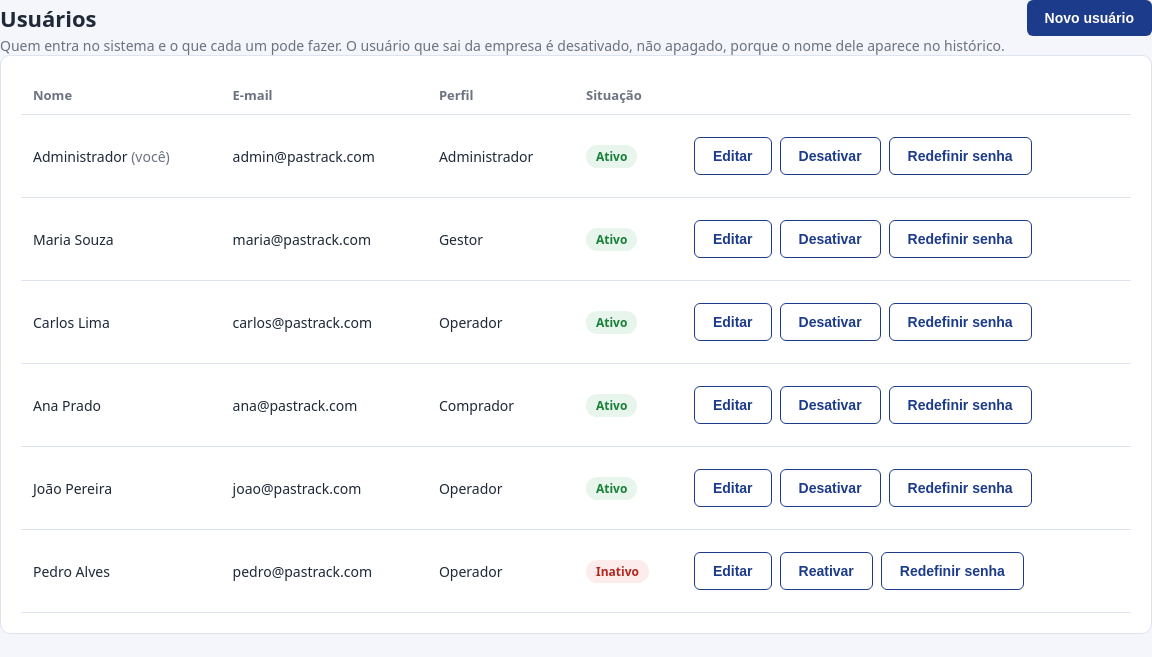
página de usuários › cadastra um usuário e mostra a senha temporária uma vez
Click the button "Novo usuário" at (1089, 18), box [1026,0,1151,36]
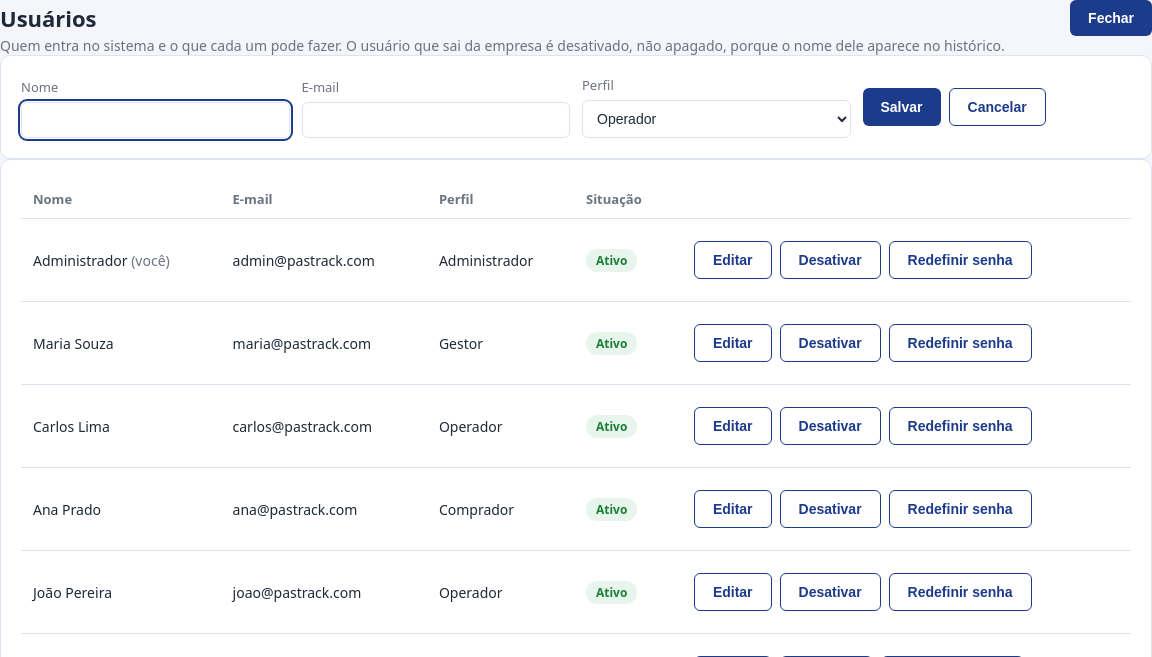
Type "Joana Prado" into the field labelled "Nome" at (155, 120), box [21,102,290,138]
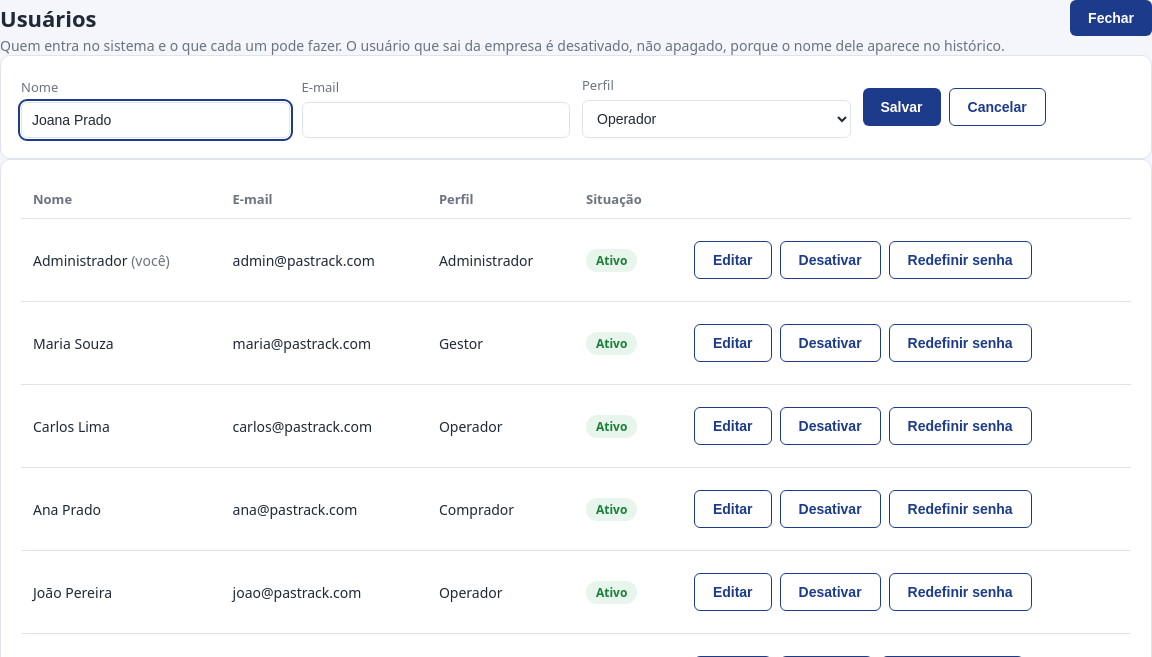
Type "joana@pastrack.com" into the field labelled "E-mail" at (436, 120), box [302,102,570,138]
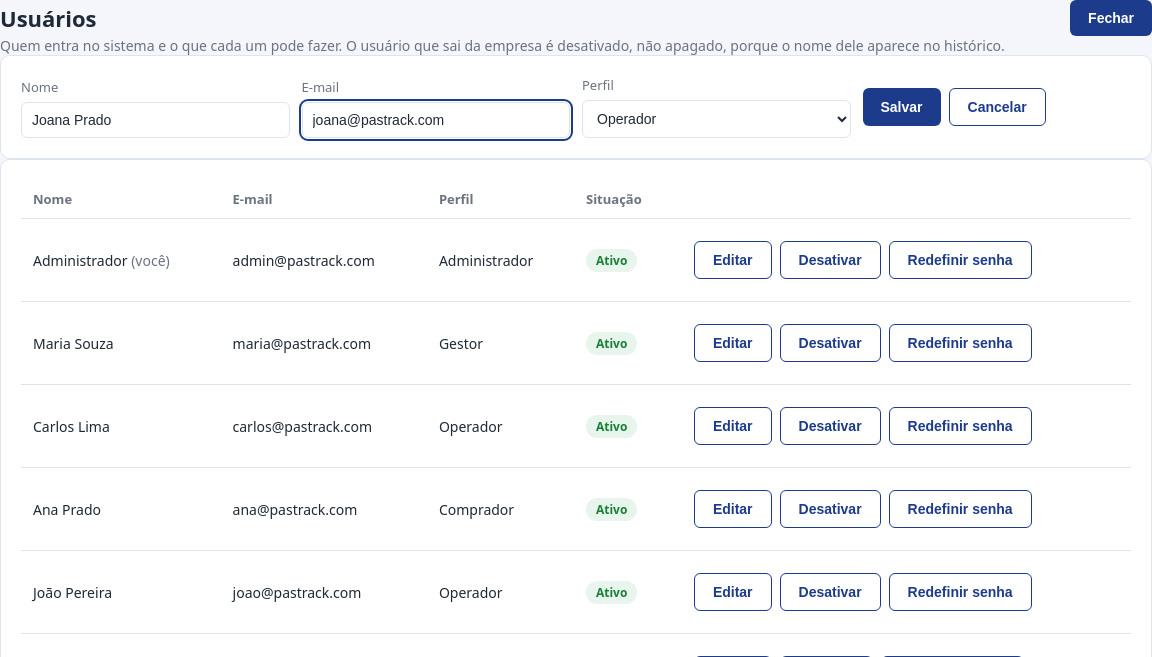
Select "Gestor" in the dropdown labelled "Perfil" at (716, 119), box [582,100,850,138]
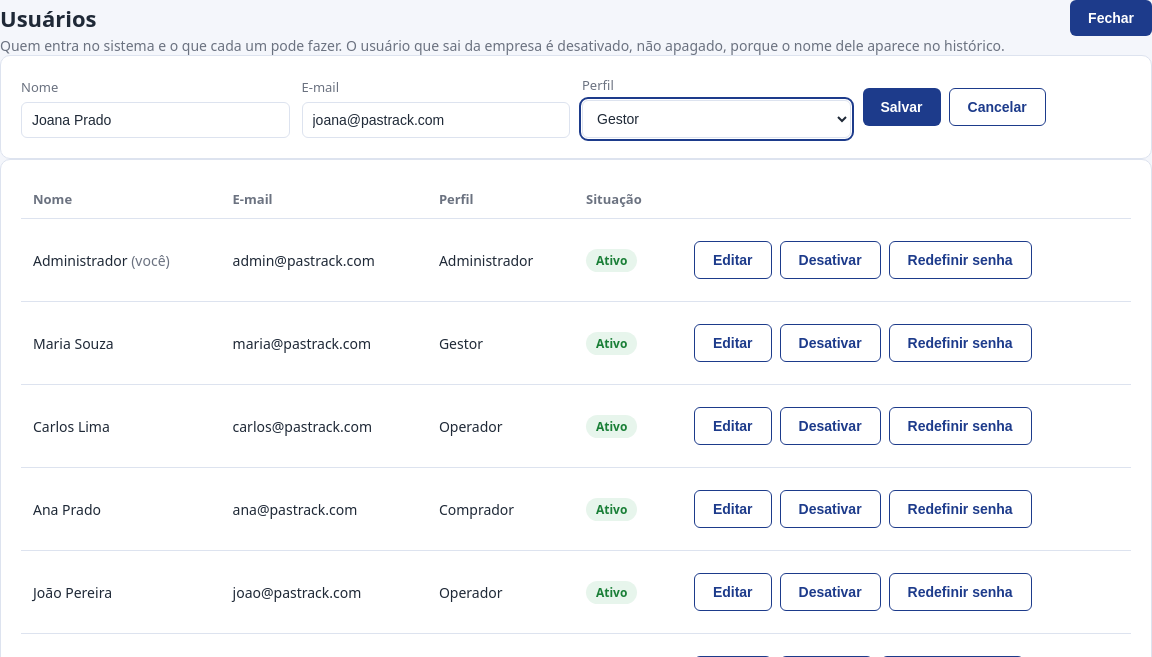
Click the button "Salvar" at (902, 107), box [862,88,940,126]
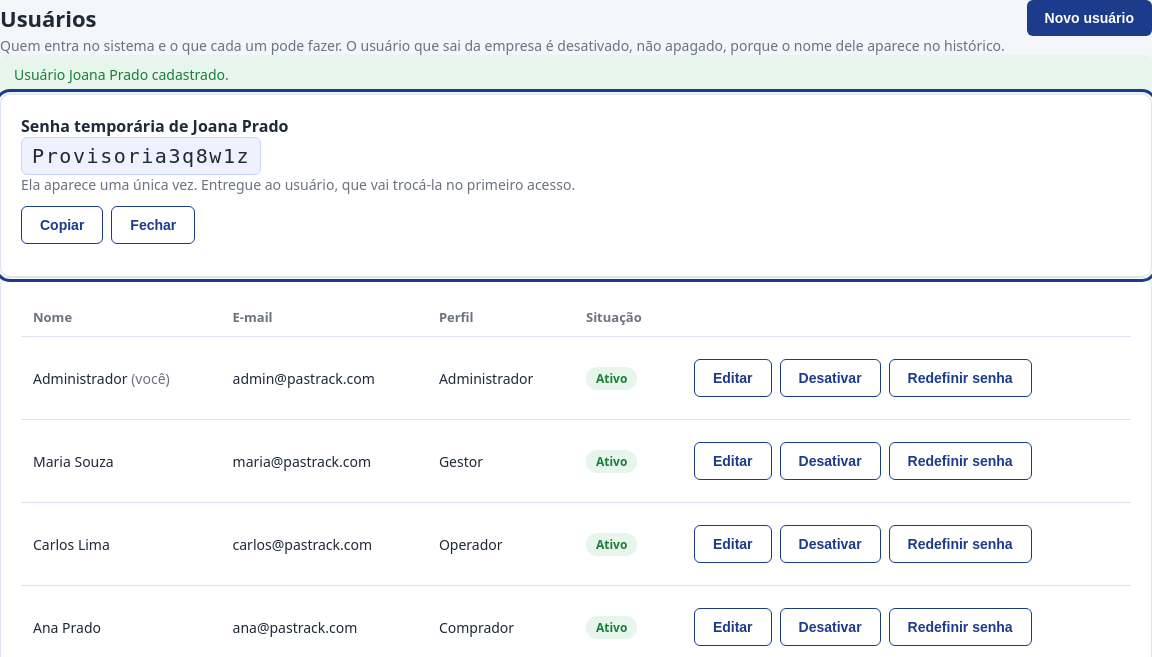
expect the element "Senha temporária de Joana Prado" shows "Provisoria3q8w1z": met, box [32,144,250,168]
Click the button "Fechar" at (153, 225), box [111,206,195,244]
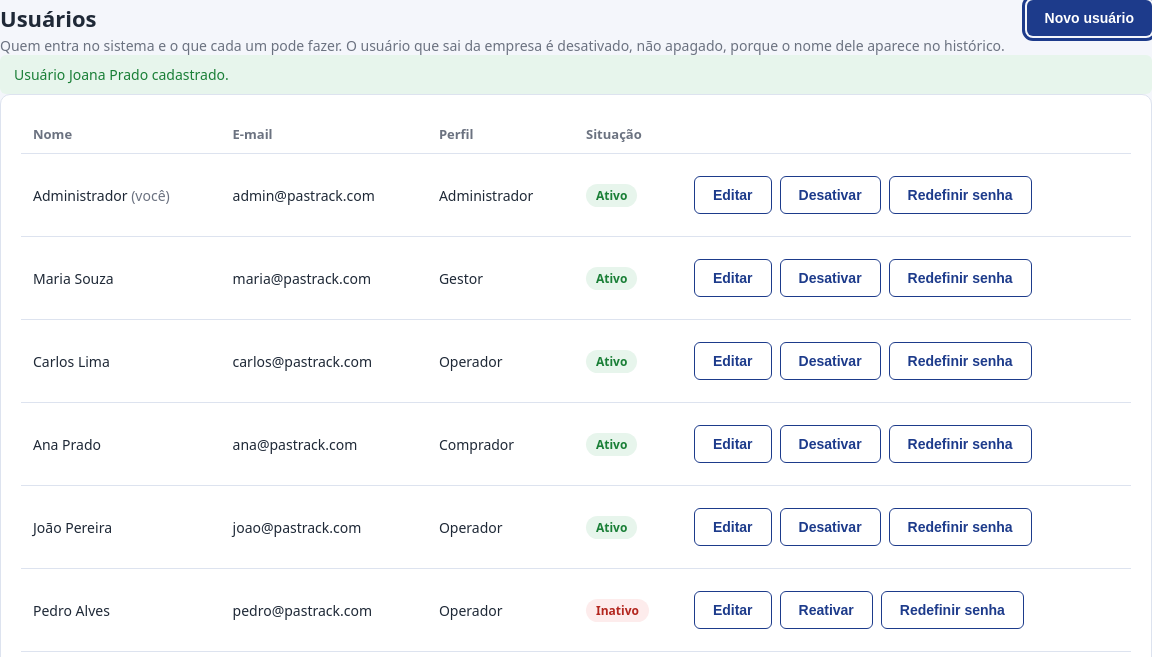
expect the text "Provisoria3q8w1z" is gone: met
